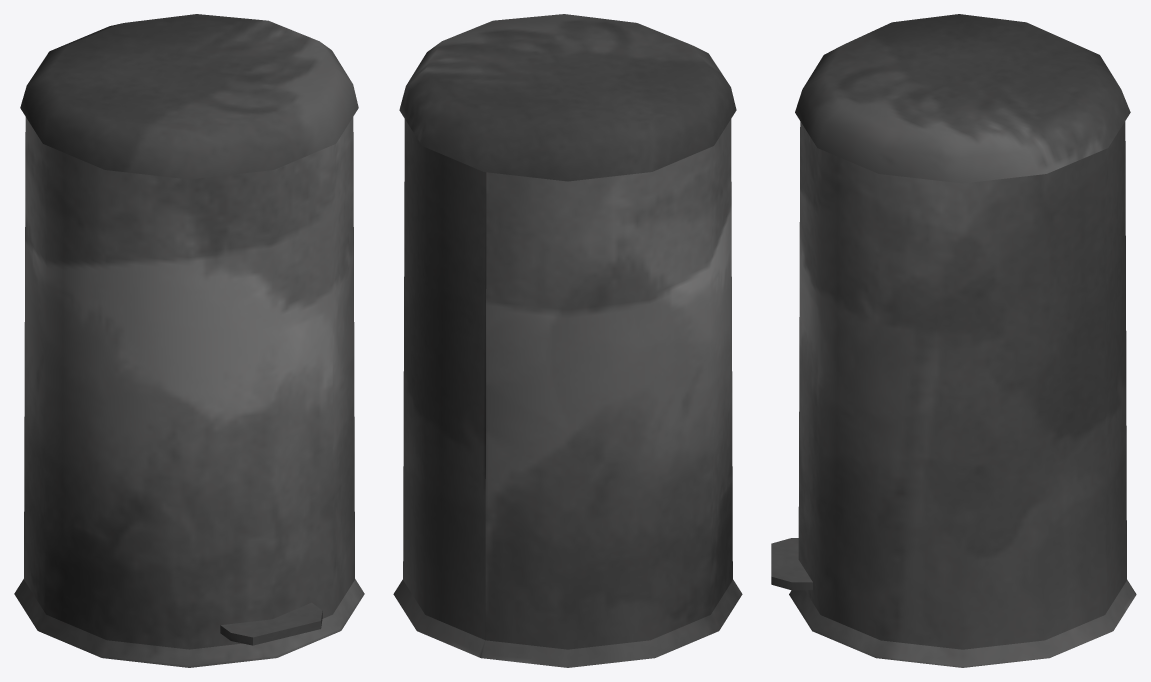
Rendered from TrashCan2_Asset.fbx.
3 renders of one model, left to right at view 1: azimuth 30°, elevation 25°; view 2: azimuth 150°, elevation 25°; view 3: azimuth 270°, elevation 25°, orthographic.
Parts seen in each view (by area): view 1: TrashCan2; view 2: TrashCan2; view 3: TrashCan2.
Part boxes in pixels (box(x1,y1,x2,y2)): TrashCan2: box(14, 14, 364, 667); TrashCan2: box(393, 14, 742, 667); TrashCan2: box(771, 14, 1136, 667).
Bounding box in the file's own units: 28.5 × 29.94 × 46.87.
1 material, 1 textured.
